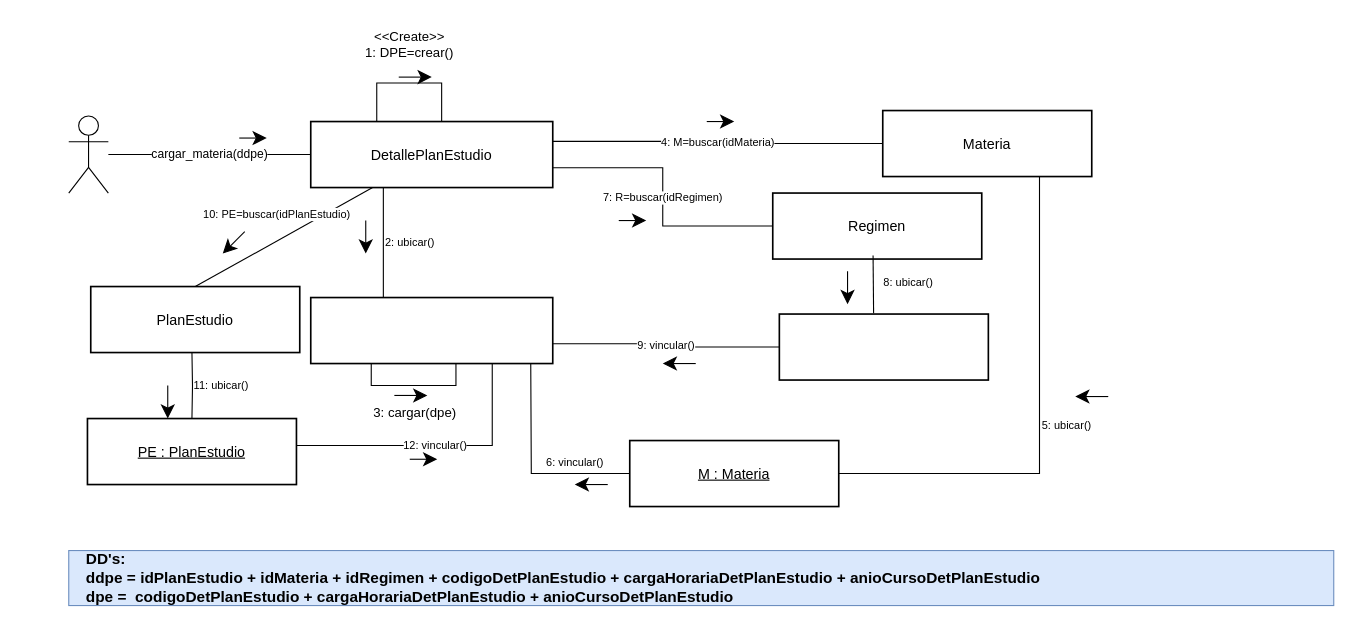
This 1353x625 diagram has some shape labels left out. The centre of each missing label's shape, as x and y in pixels:
Coordinador de Carrera: point (88, 154)
DPE : DetallePlanEstudio: point (431, 330)
R : Regimen: point (883, 346)
